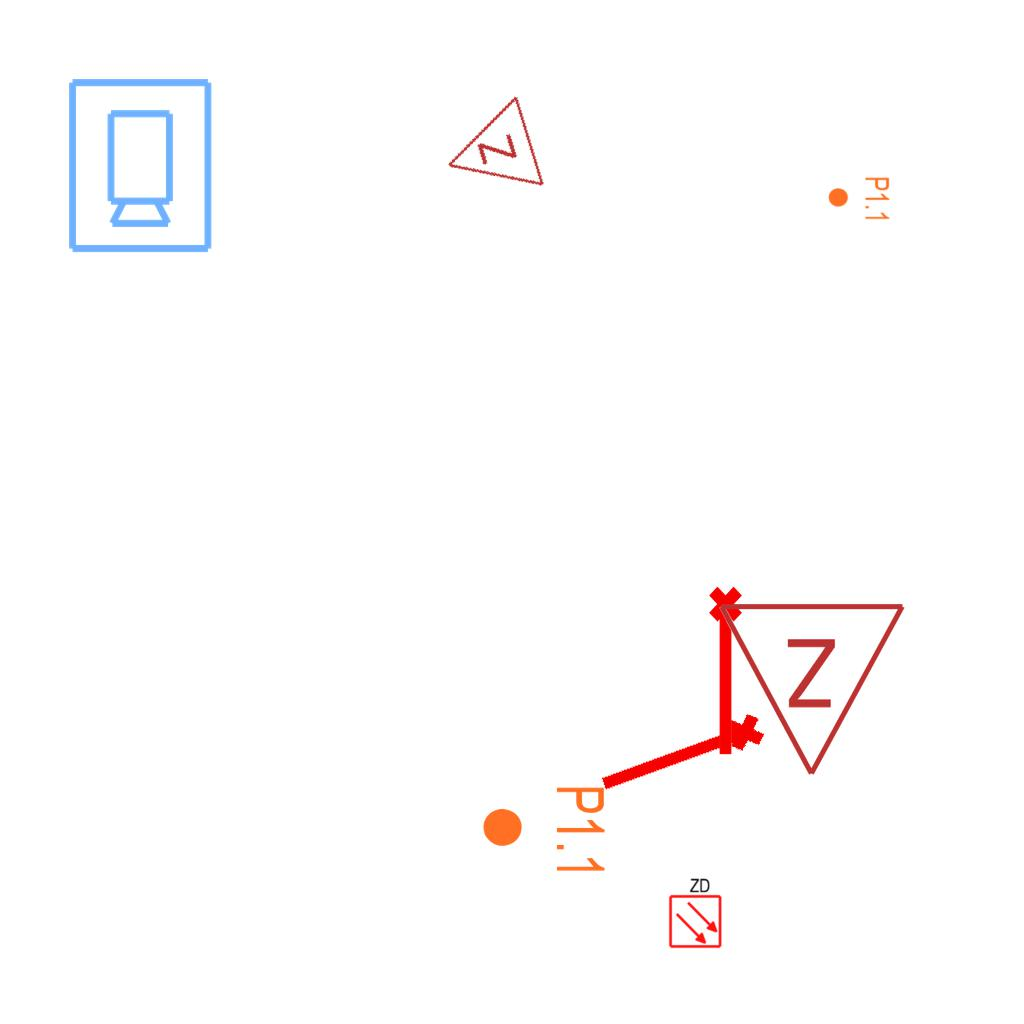ASR_Ansaugoeffnung: (591, 706, 773, 810), (705, 584, 751, 760)
Downlight_LED_Einbauleuchten_Flur: (480, 784, 608, 877), (827, 176, 891, 222)
KFO_Kamera_mit_Festobjektiv: (62, 74, 216, 256)
ZD_Melder_in_Zwischendecke_mit_Revisionsoeffnung_mind_40_x_40_cm: (666, 875, 723, 949)
Zimmersignalleuchte: (716, 589, 912, 789), (427, 92, 553, 216)
